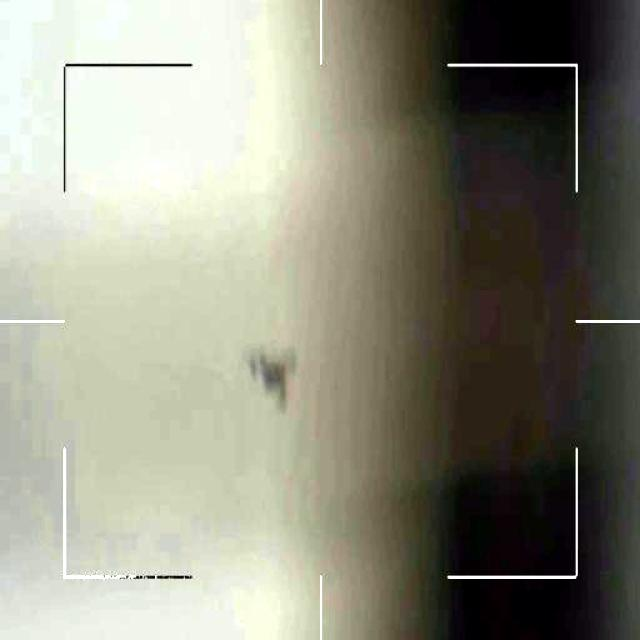bird: (246, 335, 308, 412)
